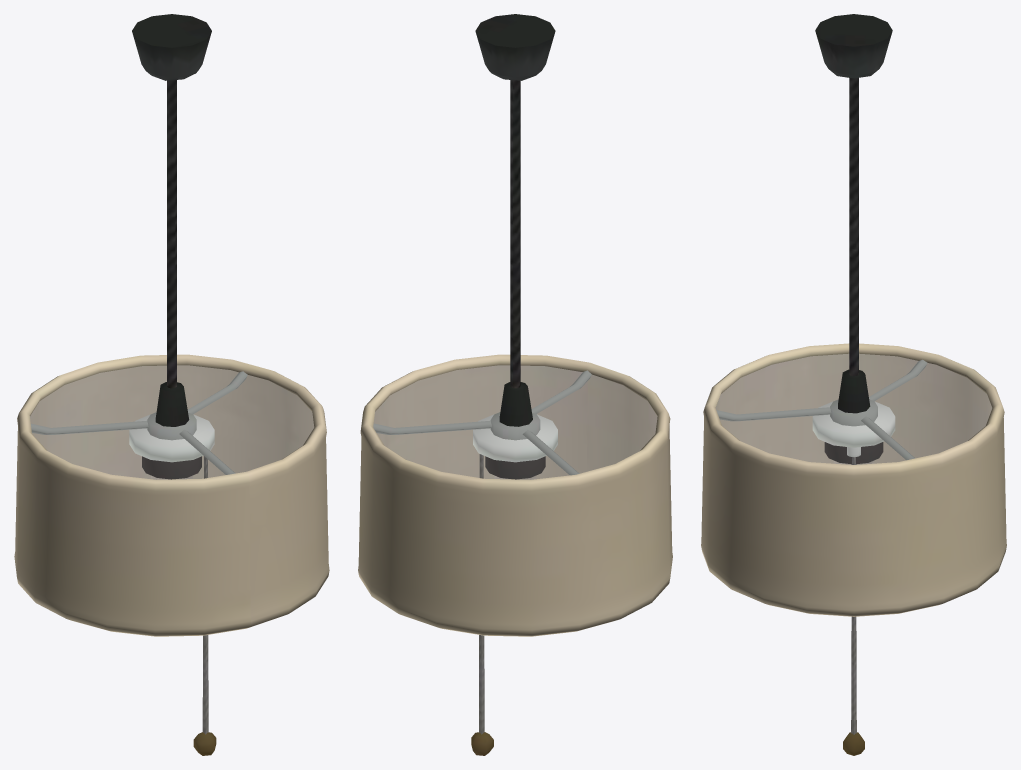
The picture shows the model from 3 angles, left to right: view 1: azimuth 30°, elevation 25°; view 2: azimuth 150°, elevation 25°; view 3: azimuth 270°, elevation 25°; orthographic projection. The views are drawn at different scales.
Size of the model in its own units: 7.46 by 19.02 by 7.44.
2 materials, 2 textured.
